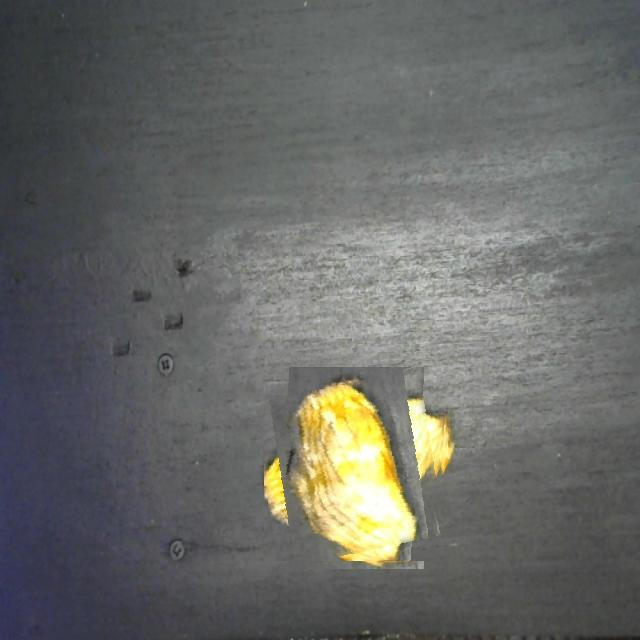biodegradable: (264, 375, 448, 561)
